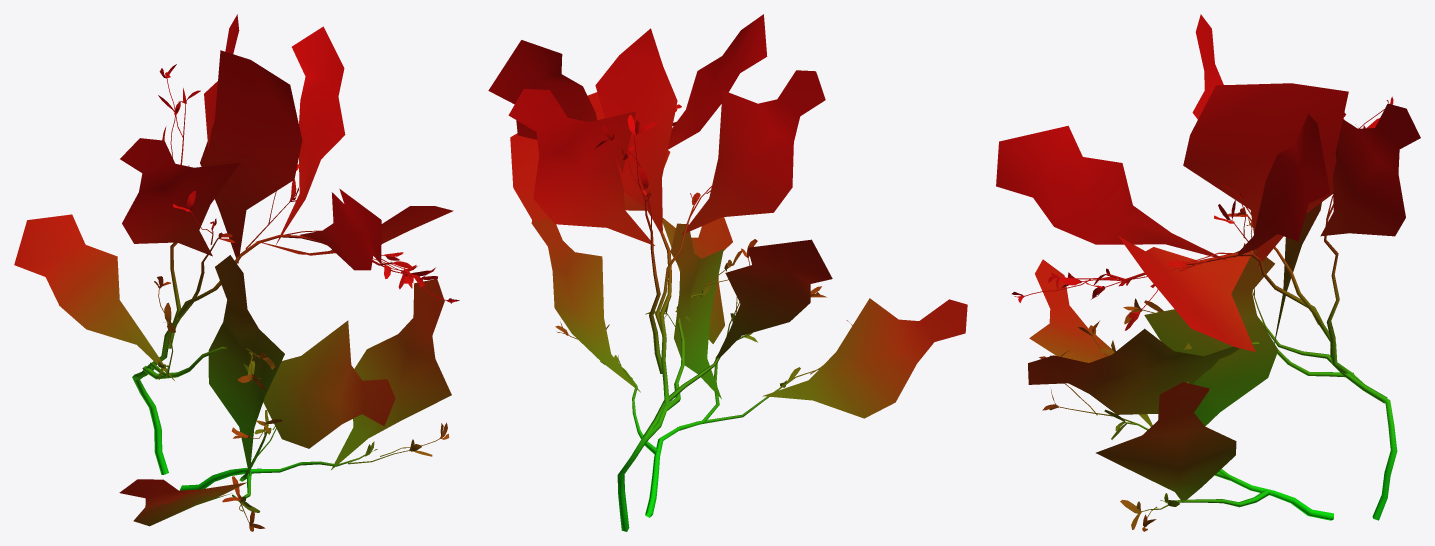
File: Downy Willow_LOD5_Var8_wknlfiuqx.fbx
The picture shows the model from 3 angles, left to right: view 1: azimuth 30°, elevation 25°; view 2: azimuth 150°, elevation 25°; view 3: azimuth 270°, elevation 25°; orthographic projection. The views are drawn at different scales.
Parts seen in each view (by area): view 1: _i3gx_Var8_LOD5; view 2: _i3gx_Var8_LOD5; view 3: _i3gx_Var8_LOD5.
Boxes of the visible parts, x1,y1,x2,y2 form: _i3gx_Var8_LOD5: [14, 14, 459, 531]; _i3gx_Var8_LOD5: [488, 14, 967, 531]; _i3gx_Var8_LOD5: [996, 14, 1420, 531].
Size of the model in its own units: 112 by 119 by 98.23.
